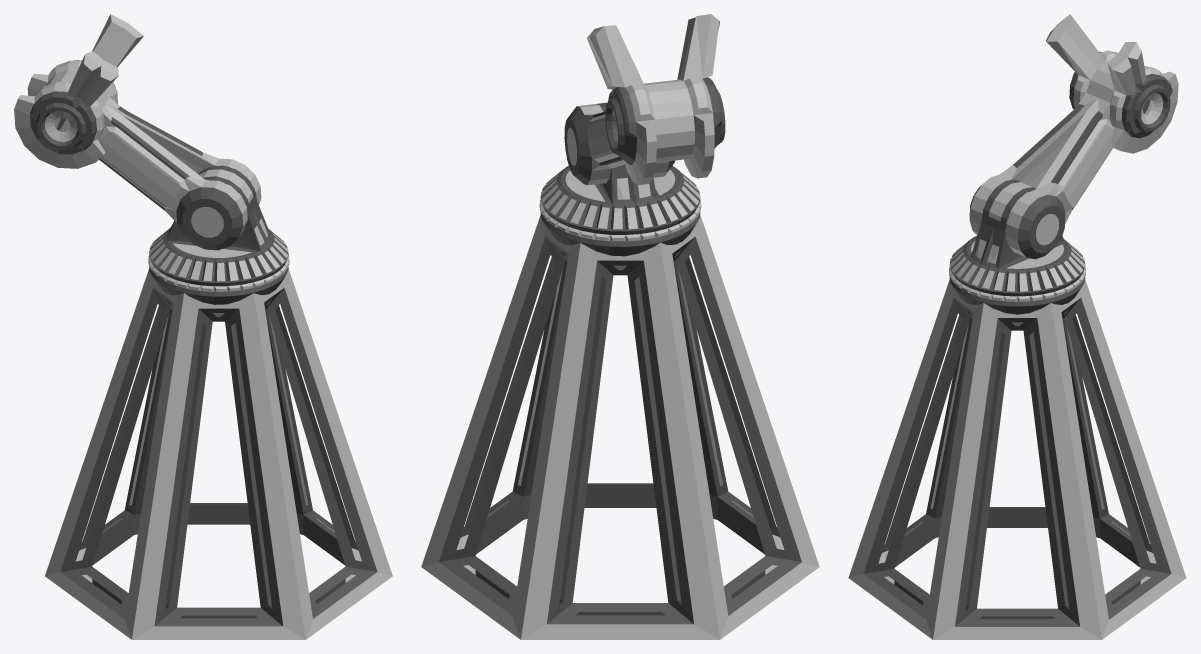
Rendered from soporteSolarPanel.obj.
3 renders of one model, left to right at view 1: azimuth 30°, elevation 25°; view 2: azimuth 150°, elevation 25°; view 3: azimuth 270°, elevation 25°, orthographic. The views are drawn at different scales.
Parts seen in each view (by area): view 1: SolarPanelTowerComplex_Foundation_SolarPanelTowerComplex_Foundat, SolarPanelTowerComplex_UpperNeck_SolarPanelComplex_UpperNeck, SolarPanelTowerComplex_Head_SolarPanelTowerComplex_Head.001, SolarPanelTowerComplex_Neck_SolarPanelTowerComplex_Neck.001; view 2: SolarPanelTowerComplex_Foundation_SolarPanelTowerComplex_Foundat, SolarPanelTowerComplex_Head_SolarPanelTowerComplex_Head.001, SolarPanelTowerComplex_Neck_SolarPanelTowerComplex_Neck.001, SolarPanelTowerComplex_UpperNeck_SolarPanelComplex_UpperNeck; view 3: SolarPanelTowerComplex_Foundation_SolarPanelTowerComplex_Foundat, SolarPanelTowerComplex_UpperNeck_SolarPanelComplex_UpperNeck, SolarPanelTowerComplex_Head_SolarPanelTowerComplex_Head.001, SolarPanelTowerComplex_Neck_SolarPanelTowerComplex_Neck.001.
Boxes of the visible parts, <box> form: SolarPanelTowerComplex_Foundation_SolarPanelTowerComplex_Foundat: <box>45,255,392,639</box>; SolarPanelTowerComplex_UpperNeck_SolarPanelComplex_UpperNeck: <box>45,70,261,250</box>; SolarPanelTowerComplex_Head_SolarPanelTowerComplex_Head.001: <box>14,14,143,168</box>; SolarPanelTowerComplex_Neck_SolarPanelTowerComplex_Neck.001: <box>149,165,288,282</box>; SolarPanelTowerComplex_Foundation_SolarPanelTowerComplex_Foundat: <box>421,199,819,639</box>; SolarPanelTowerComplex_Head_SolarPanelTowerComplex_Head.001: <box>587,14,725,184</box>; SolarPanelTowerComplex_Neck_SolarPanelTowerComplex_Neck.001: <box>540,102,700,231</box>; SolarPanelTowerComplex_UpperNeck_SolarPanelComplex_UpperNeck: <box>564,79,694,185</box>; SolarPanelTowerComplex_Foundation_SolarPanelTowerComplex_Foundat: <box>848,266,1186,639</box>; SolarPanelTowerComplex_UpperNeck_SolarPanelComplex_UpperNeck: <box>969,60,1114,259</box>; SolarPanelTowerComplex_Head_SolarPanelTowerComplex_Head.001: <box>1046,14,1178,153</box>; SolarPanelTowerComplex_Neck_SolarPanelTowerComplex_Neck.001: <box>949,179,1085,293</box>.
Size of the model in its own units: 18.1 by 33.36 by 19.9.
Materials: 1 (1 with a texture image).
